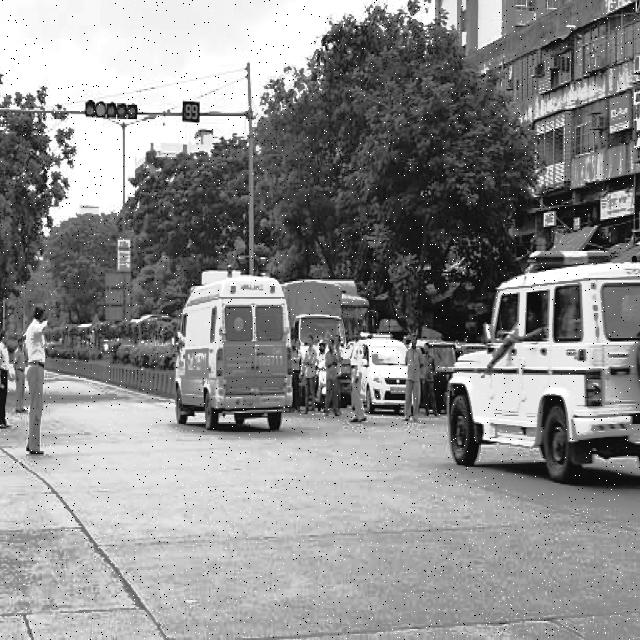Ambulance: (165, 253, 298, 466), (230, 279, 265, 312)
